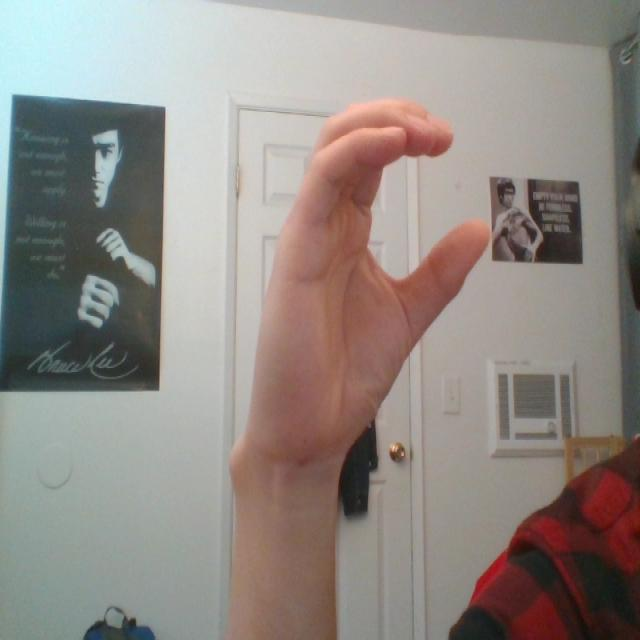C: (209, 42, 497, 520)
